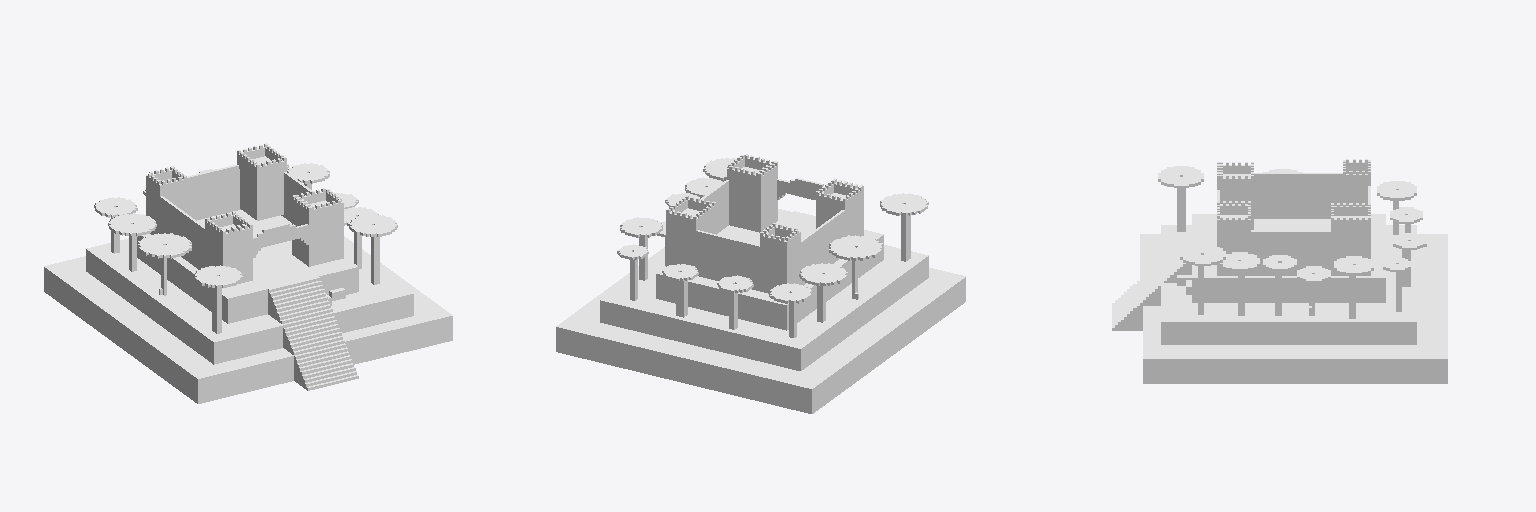
File: place_ziggurat.obj
3 renders of one model, left to right at view 1: azimuth 30°, elevation 25°; view 2: azimuth 150°, elevation 25°; view 3: azimuth 270°, elevation 25°, orthographic.
Parts seen in each view (by area): view 1: place_ziggurat; view 2: place_ziggurat; view 3: place_ziggurat.
Boxes of the visible parts, box(x1,y1,x2,y2) form: place_ziggurat: box(44, 143, 452, 403); place_ziggurat: box(556, 154, 965, 413); place_ziggurat: box(1112, 159, 1447, 383).
Bounding box in the file's own units: 96 × 47 × 109.